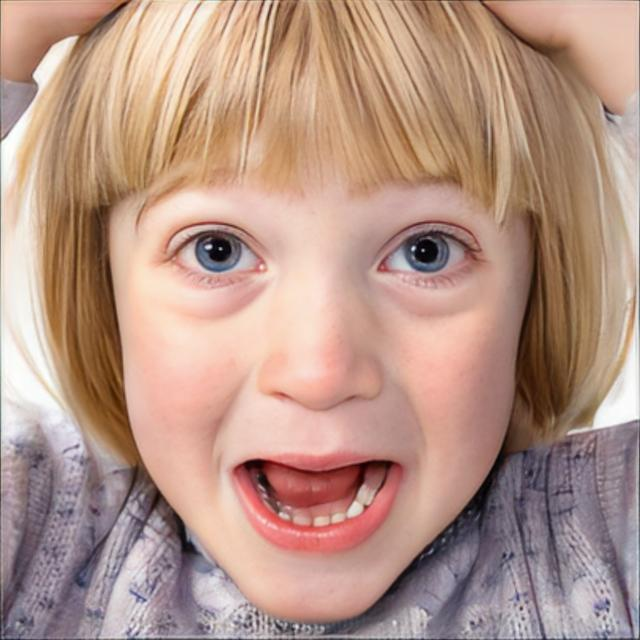fear: (111, 58, 532, 616)
